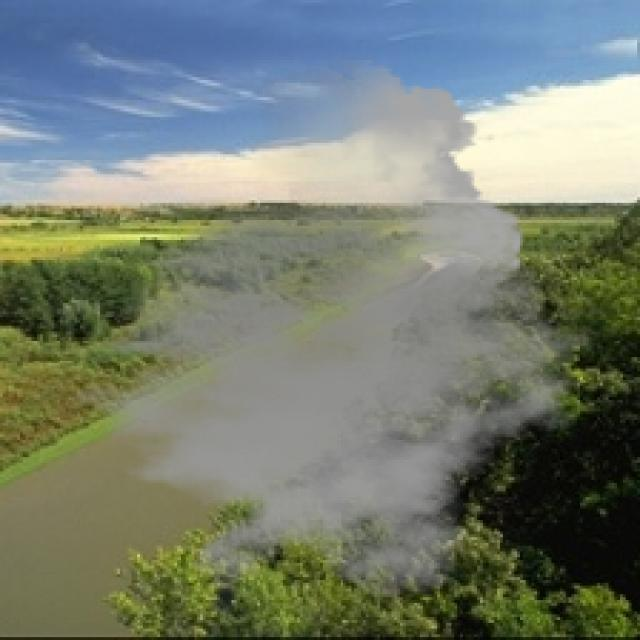smoke: (40, 57, 594, 600)
